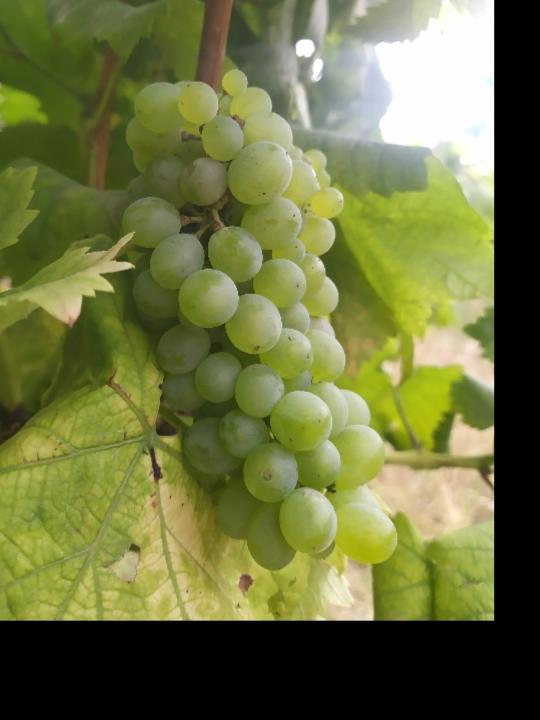grape: (121, 66, 402, 572)
